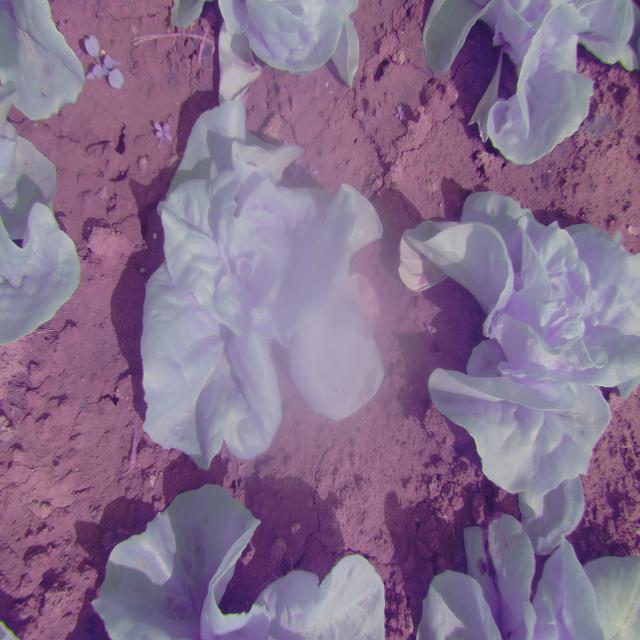vege: (130, 100, 394, 462)
